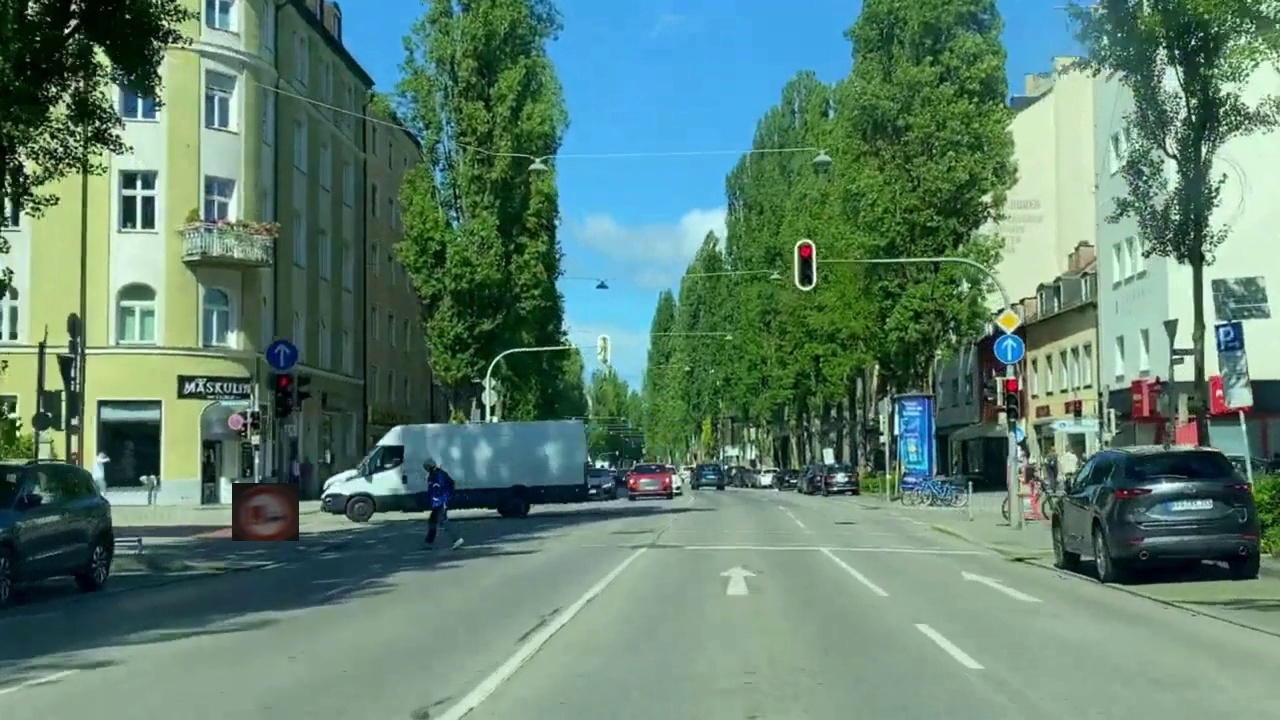No pass >3.5t: (232, 483, 299, 541)
